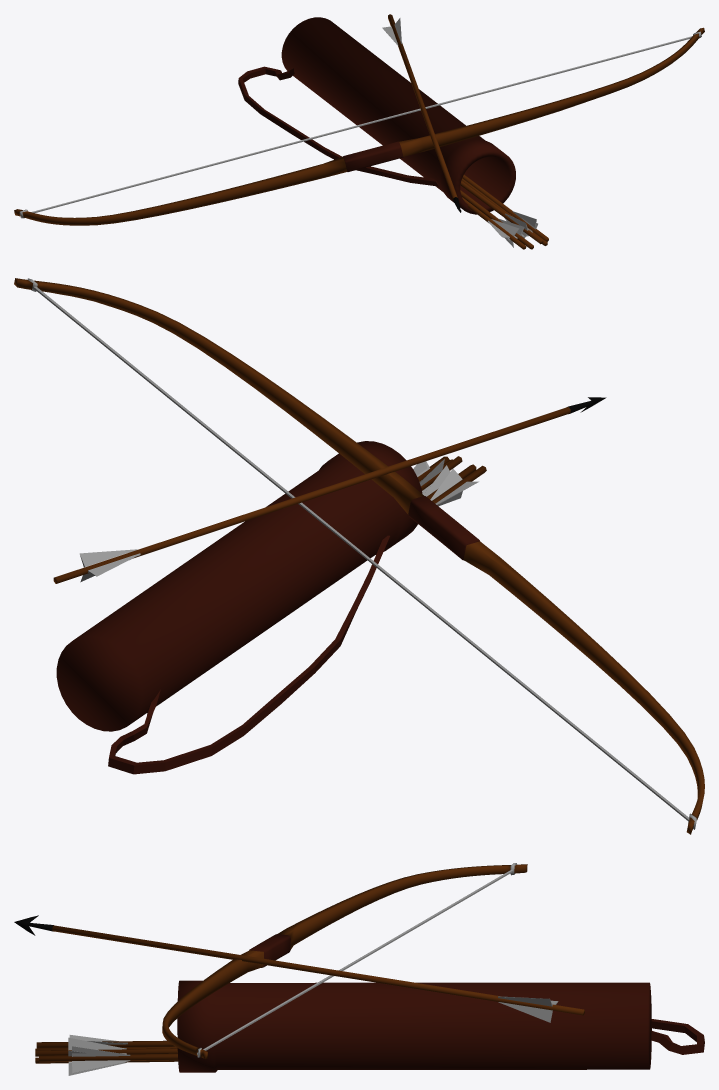
Rendered from luk.fbx.
The picture shows the model from 3 angles, top to bottom: view 1: azimuth 30°, elevation 25°; view 2: azimuth 150°, elevation 25°; view 3: azimuth 270°, elevation 25°; orthographic projection. The views are drawn at different scales.
Parts seen in each view (by area): view 1: Cube.004, Cylinder, Cylinder.001, Cylinder.006, Cylinder.005, Cylinder.004, Cylinder.002; view 2: Cube.004, Cylinder, Cylinder.001, Cylinder.006; view 3: Cube.004, Cylinder, Cylinder.001, Cylinder.005, Cylinder.004, Cylinder.006, Cylinder.003.
Part boxes in pixels (left/top/right/bottom): Cube.004: left=238, top=17, right=515, bottom=214; Cylinder: left=14, top=27, right=704, bottom=225; Cylinder.001: left=382, top=14, right=461, bottom=212; Cylinder.006: left=462, top=197, right=526, bottom=249; Cylinder.005: left=462, top=174, right=548, bottom=241; Cylinder.004: left=460, top=180, right=543, bottom=244; Cylinder.002: left=460, top=190, right=533, bottom=249; Cube.004: left=56, top=441, right=422, bottom=774; Cylinder: left=14, top=278, right=704, bottom=834; Cylinder.001: left=53, top=397, right=606, bottom=583; Cylinder.006: left=430, top=465, right=486, bottom=506; Cube.004: left=177, top=980, right=704, bottom=1072; Cylinder: left=162, top=863, right=527, bottom=1059; Cylinder.001: left=14, top=915, right=584, bottom=1022; Cylinder.005: left=39, top=1046, right=178, bottom=1073; Cylinder.004: left=35, top=1037, right=177, bottom=1063; Cylinder.006: left=36, top=1035, right=174, bottom=1048; Cylinder.003: left=35, top=1051, right=178, bottom=1075.
Size of the model in its own units: 562 by 131 by 449.
